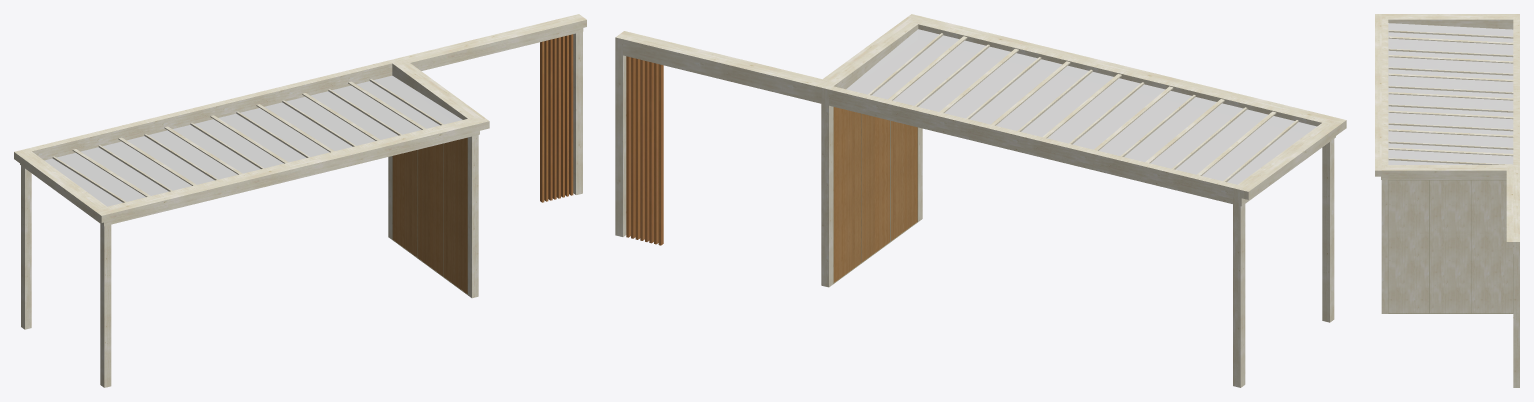
Rendered from hy29-e_whitepine.fbx.
3 renders of one model, left to right at view 1: azimuth 30°, elevation 25°; view 2: azimuth 150°, elevation 25°; view 3: azimuth 270°, elevation 25°, orthographic. The views are drawn at different scales.
Parts seen in each view (by area): view 1: hy29-e_whitepine; view 2: hy29-e_whitepine; view 3: hy29-e_whitepine.
Boxes of the visible parts, x1,y1,x2,y2 form: hy29-e_whitepine: (14, 14, 586, 387); hy29-e_whitepine: (615, 14, 1346, 387); hy29-e_whitepine: (1375, 14, 1519, 387).
Size of the model in its own units: 820 by 245 by 220.
Materials: 9 (8 with a texture image).
